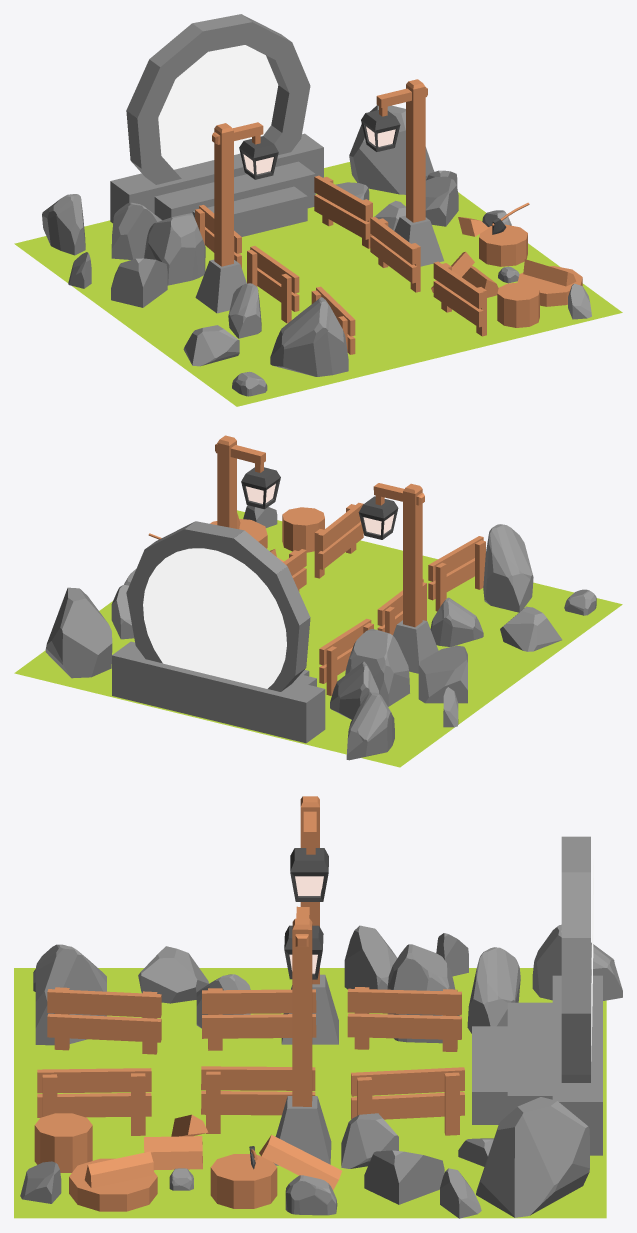
The model's file is portal.glb.
3 views of the same model, one above another, from view 1: azimuth 30°, elevation 25°; view 2: azimuth 150°, elevation 25°; view 3: azimuth 270°, elevation 25° (orthographic). The views are drawn at different scales.
Visible parts, largest first — view 1: Plane, PortalLight, Cube.007, Cube, Cube.019, Cube.009, Cube.010, Cube.023, LightBase.011, LightBase.002, Cube.002, Cube.011 (+31 smaller); view 2: Plane, PortalLight, Cube, Cube.010, Cube.007, Cube.009, LightBase.011, Cube.015, Cube.008, Cube.014, Cube.011, Cube.006 (+24 smaller); view 3: Plane, Cube.010, Cube.015, Cube.020, Cube.011, Cube.002, Cube.016, Cube.004, Cube.019, Cube, LightBase.002, Cube.023 (+30 smaller).
Boxes of the visible parts, <box> form: Plane: <box>14,162,622,406</box>; PortalLight: <box>158,45,278,169</box>; Cube.007: <box>270,297,348,376</box>; Cube: <box>110,133,323,223</box>; Cube.019: <box>154,161,315,220</box>; Cube.009: <box>144,213,205,285</box>; Cube.010: <box>349,105,434,194</box>; Cube.023: <box>192,186,307,236</box>; LightBase.011: <box>214,123,233,266</box>; LightBase.002: <box>406,79,425,222</box>; Cube.002: <box>314,175,372,248</box>; Cube.011: <box>433,261,486,336</box>; Plane: <box>14,510,622,767</box>; PortalLight: <box>143,548,286,688</box>; Cube: <box>112,641,325,743</box>; Cube.010: <box>45,587,112,678</box>; Cube.007: <box>483,524,533,612</box>; Cube.009: <box>345,629,409,706</box>; LightBase.011: <box>403,483,422,627</box>; Cube.015: <box>428,536,485,611</box>; Cube.008: <box>418,645,467,703</box>; Cube.014: <box>346,692,394,760</box>; Cube.011: <box>314,502,363,578</box>; Cube.006: <box>500,606,562,651</box>; Plane: <box>14,968,606,1218</box>; Cube.010: <box>476,1097,589,1217</box>; Cube.015: <box>47,987,161,1054</box>; Cube.020: <box>347,987,461,1051</box>; Cube.011: <box>37,1068,151,1135</box>; Cube.002: <box>351,1067,464,1135</box>; Cube.016: <box>202,988,316,1050</box>; Cube.004: <box>201,1066,315,1133</box>; Cube.019: <box>507,1002,552,1114</box>; Cube: <box>552,975,602,1155</box>; LightBase.002: <box>292,918,312,1106</box>; Cube.023: <box>472,1026,507,1124</box>.
Size of the model in its own units: 4 by 1.8 by 4.08.
